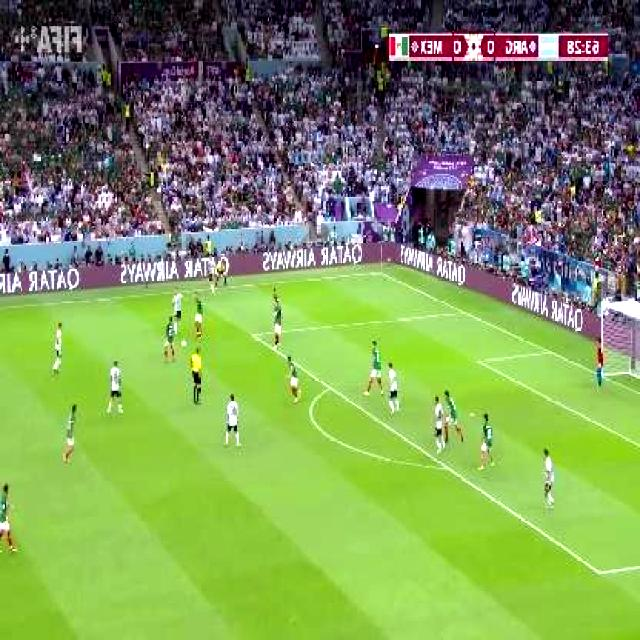bigarea_bottom_inner: (591, 560, 614, 586)
bigarea_top_inner: (248, 328, 262, 344)
bigarea_top_outter: (460, 306, 468, 316)
bottom_arc_area_intersection: (438, 457, 458, 478)
corner: (376, 270, 384, 276)
smallarea_top_inner: (477, 356, 485, 366)
smallarea_top_outter: (546, 346, 556, 356)
top_arc_area_intersection: (322, 378, 340, 397)
